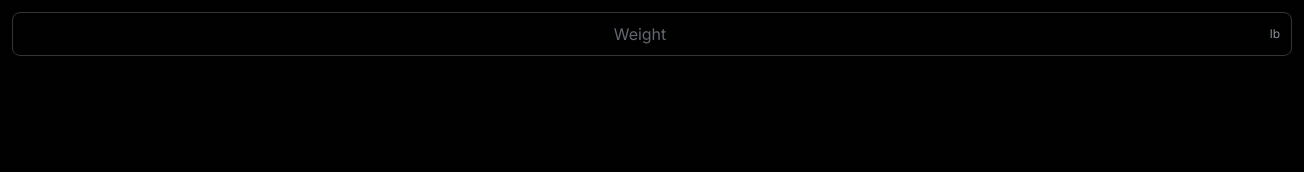
Scenario: NumberInput › sanitizes typed text
This screenshot has width=1304, height=172.
Type "12a,5.7" into the field labelled "Weight".
click(652, 34); type("12a,5.7")  # box x1=12 y1=12 x2=1292 y2=56
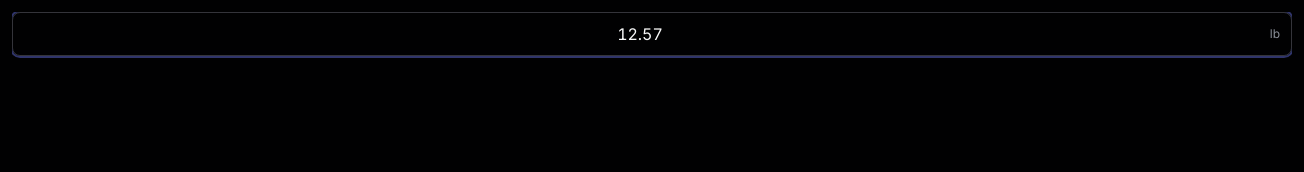
Result: the field named "Weight" holds "12.57" at x1=12 y1=12 x2=1292 y2=56
